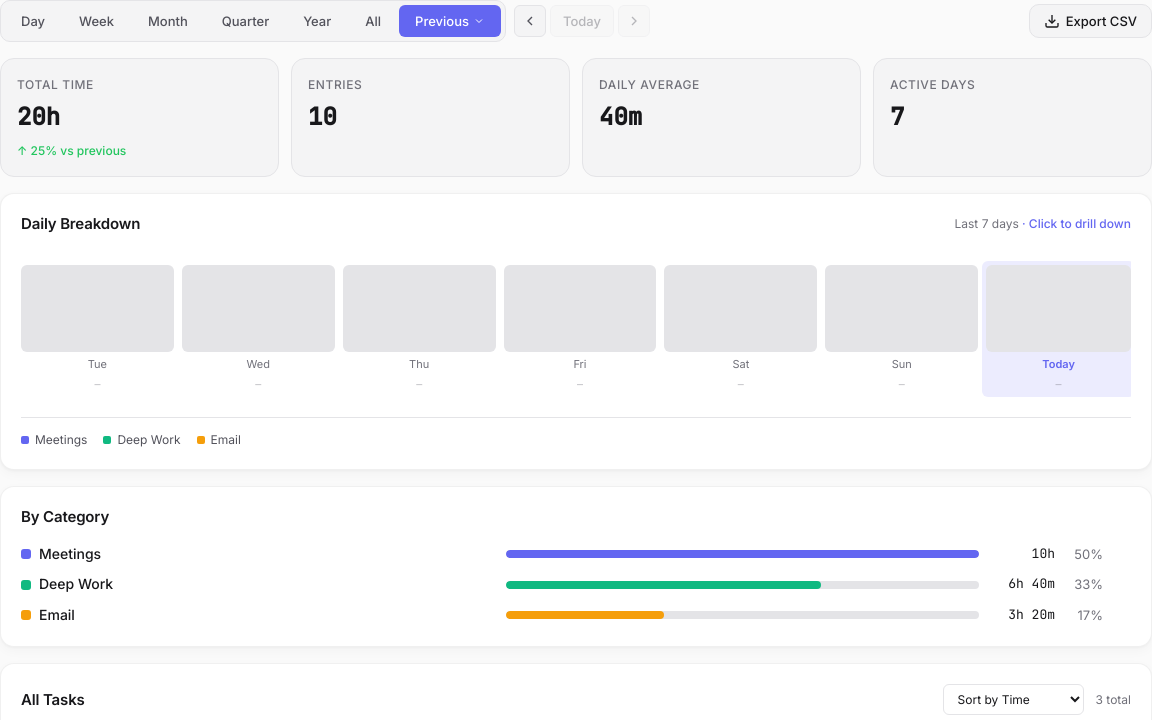
Test case: Analytics › shows daily breakdown for week view
The image size is (1164, 720).
Expected: the text "Total Time" is shown, [17,77,94,92]
Note: Default is last7, switch to week view
Click the button "Week". click: [96, 21]
box: [63,5,130,37]
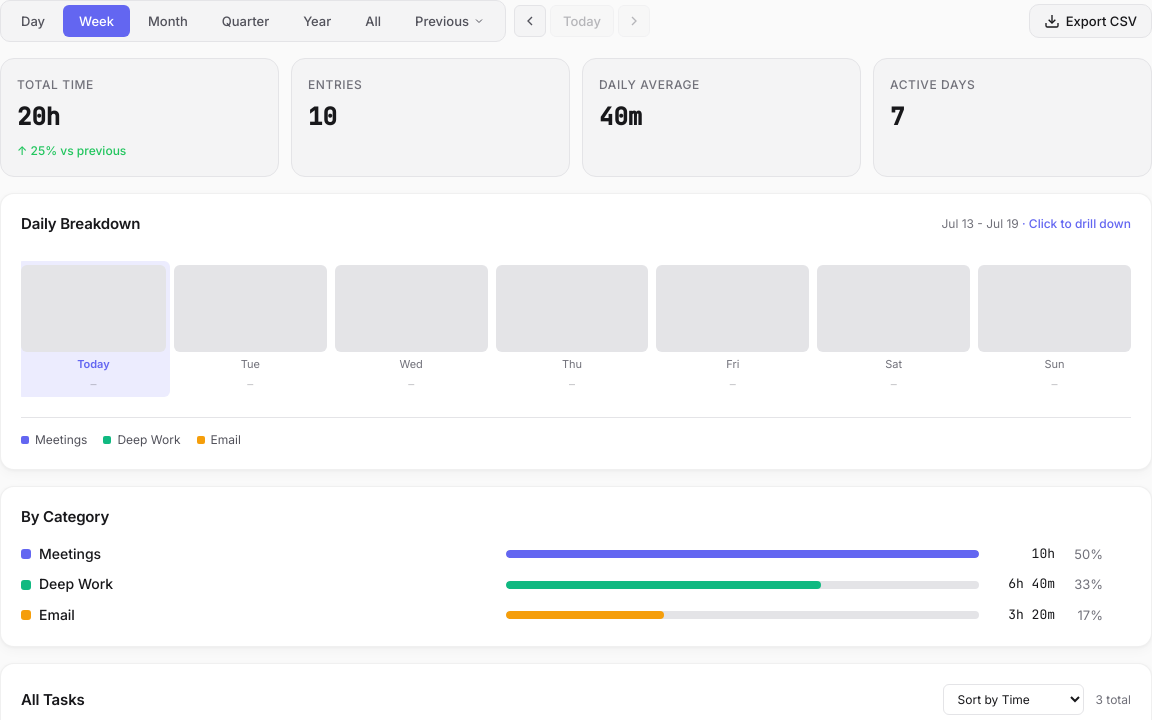
Expected: the heading "Daily Breakdown" is shown, [21,214,140,233]
Now the text "Jul 13 - Jul 19 · Click to drill down" is shown, box [942,214,1131,233]
